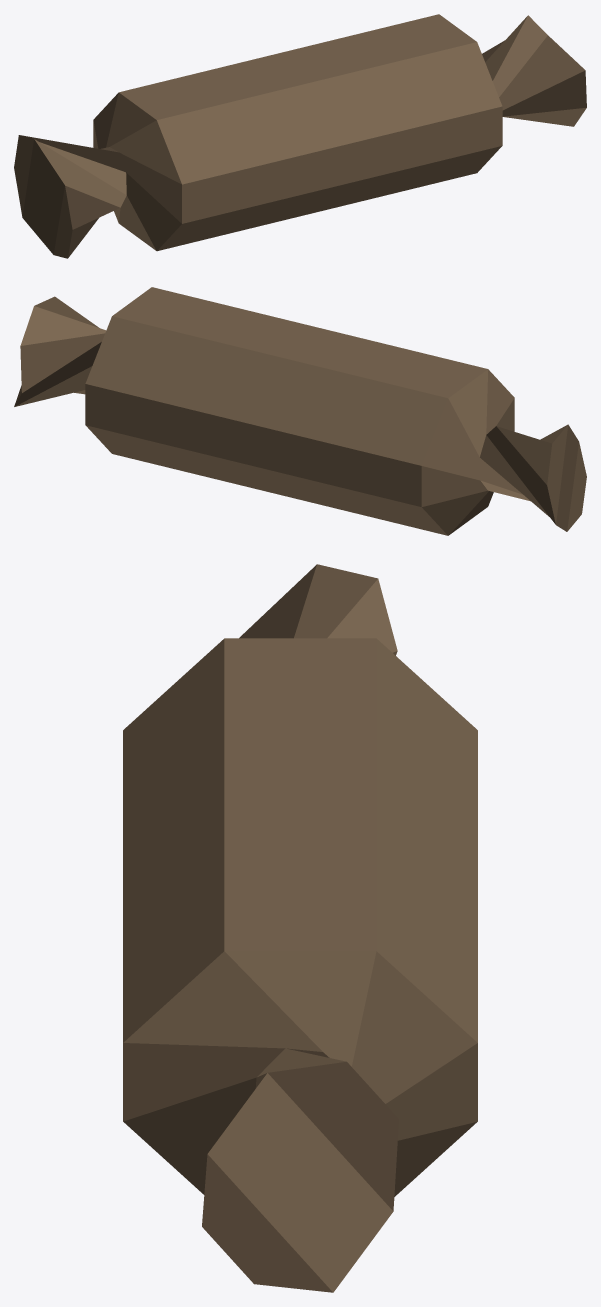
File: ScoreCandy.fbx
The picture shows the model from 3 angles, top to bottom: view 1: azimuth 30°, elevation 25°; view 2: azimuth 150°, elevation 25°; view 3: azimuth 270°, elevation 25°; orthographic projection. The views are drawn at different scales.
Parts seen in each view (by area): view 1: ScoreCandy; view 2: ScoreCandy; view 3: ScoreCandy.
Part boxes in pixels (x1,y1,x2,y2): ScoreCandy: (14,14,586,258); ScoreCandy: (14,287,586,535); ScoreCandy: (123,564,477,1292).
Size of the model in its own units: 3.5 by 0.8367 by 1.03.
